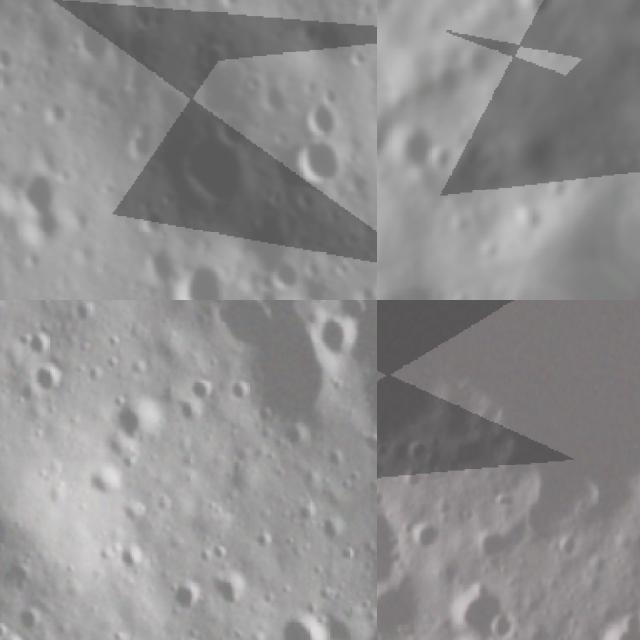crater: (215, 300, 322, 434), (170, 130, 263, 202), (336, 300, 377, 454), (111, 391, 162, 452), (377, 579, 425, 640), (180, 247, 235, 300), (72, 24, 137, 65), (443, 589, 505, 631), (383, 133, 432, 186), (377, 501, 401, 601), (300, 132, 339, 186), (503, 0, 574, 29), (202, 570, 253, 609), (156, 576, 202, 616), (28, 360, 70, 400), (302, 96, 351, 130), (318, 320, 354, 366), (194, 34, 230, 72), (583, 617, 640, 640), (22, 327, 56, 364), (408, 518, 442, 551), (110, 546, 145, 574), (479, 532, 512, 557), (490, 616, 519, 639), (404, 438, 430, 460), (402, 468, 426, 490), (453, 504, 475, 524), (0, 39, 14, 66)
